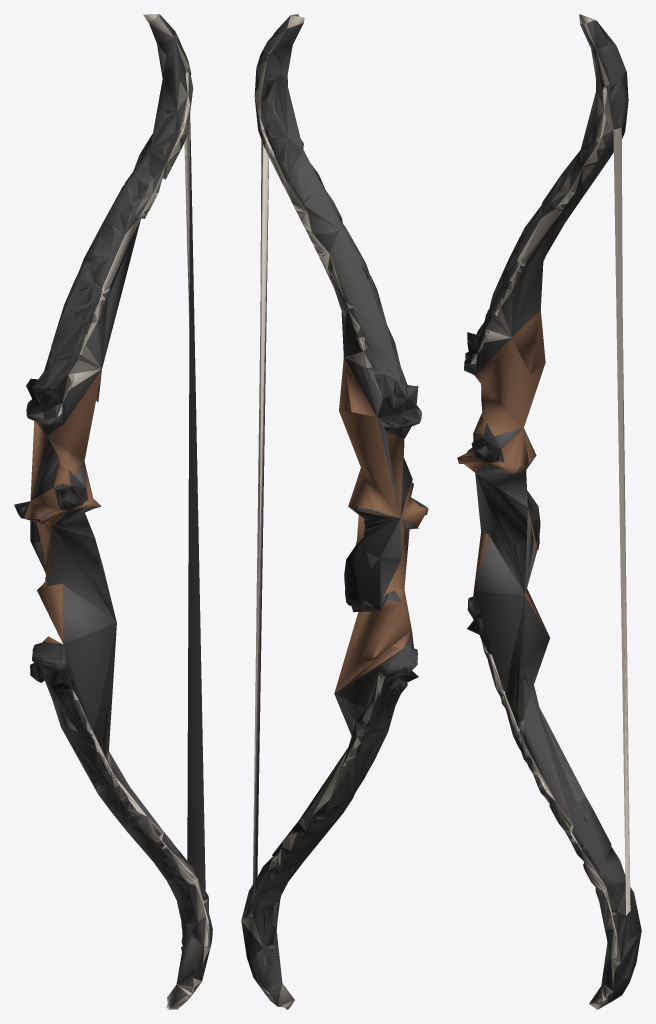
File: bow_parts.glb
3 views of the same model, side by side, from view 1: azimuth 30°, elevation 25°; view 2: azimuth 150°, elevation 25°; view 3: azimuth 330°, elevation 25° (orthographic).
Visible parts, largest first — view 1: weapon; view 2: weapon; view 3: weapon.
Boxes of the visible parts, box(x1,y1,x2,y2) form: weapon: box(14, 14, 212, 1009); weapon: box(241, 14, 428, 1009); weapon: box(457, 14, 641, 1009).
Size of the model in its own units: 0.1896 by 1 by 0.0546.
